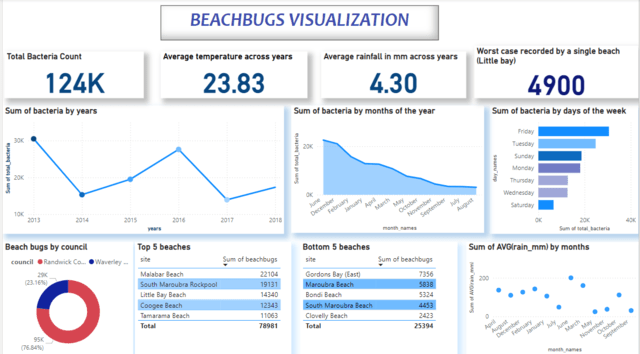

What the dashboard file says about the page in this screenshot:
{"tool":"powerbi","page":{"name":"Page 1","canvas":[1280,720],"ordinal":0},"visuals":[{"type":"textbox","box":[317.8,13,559.5,69.7],"z":0},{"type":"lineChart","title":"Sum of bacteria by years","fields":{"Category":["bacteria_by_day_month (2).years"],"Y":["Sum(bacteria_by_day_month (2).total_bacteria)"]},"box":[0,214.7,566.3,257.7],"z":1000},{"type":"card","title":"Total Bacteria Count","fields":{"Values":["Sum(bacteria_by_day_month (2).total_bacteria)"]},"box":[3.2,105.4,280.5,94.1],"z":2000},{"type":"card","title":"Average temperature across years","fields":{"Values":["Avg(bacteria_by_day_month (2).Avg_temp)"]},"box":[317.8,105.4,295.1,94.1],"z":3000},{"type":"card","title":"Average rainfall in mm across years","fields":{"Values":["Avg(bacteria_by_day_month (2).AVG(rain_mm))"]},"box":[640.5,105.4,291.9,94.1],"z":4000},{"type":"barChart","title":"Sum of bacteria by days of the week","fields":{"Category":["bacteria_by_day_month (2).day_names"],"Y":["Sum(bacteria_by_day_month (2).total_bacteria)"]},"box":[979.8,214.7,299,257.7],"z":5000},{"type":"areaChart","title":"Sum of bacteria by months of the year","fields":{"Category":["bacteria_by_day_month (2).month_names"],"Y":["Sum(bacteria_by_day_month (2).total_bacteria)"]},"box":[580.6,214.7,388.1,256.1],"z":6000},{"type":"scatterChart","title":"Sum of AVG(rain_mm) by months","fields":{"Y":["Sum(bacteria_by_day_month (2).AVG(rain_mm))"],"X":["bacteria_by_day_month (2).month_names"]},"box":[932.4,488.1,347,227],"z":7000},{"type":"card","title":"Worst case recorded by a single beach (Little bay)","fields":{"Values":["bugcount_beaches.Measure"]},"box":[948.7,94.1,330.8,105.4],"z":8000},{"type":"donutChart","title":"Beach bugs by council","fields":{"Y":["Sum(bugcount_council.total)"],"Category":["bugcount_council.council"]},"box":[0,488.1,262.7,231.9],"z":9000},{"type":"tableEx","title":"Top 5 beaches","fields":{"Values":["bugcount_beaches.site","Sum(bugcount_beaches.beachbugs)"]},"box":[265.9,488.1,314.6,227],"z":10000},{"type":"tableEx","title":"Bottom 5 beaches","fields":{"Values":["bugcount_beaches.site","Sum(bugcount_beaches.beachbugs)"]},"box":[598.1,488.3,316.5,227.5],"z":11000}]}

Visuals, with their boxes in screenshot pixels (x1, y1, x2, y2), scaled from the page's 1280x720 canvas onto the 640x354 screenshot:
textbox: <box>159,6,439,41</box>
"Sum of bacteria by years" lineChart: <box>0,106,283,232</box>
"Total Bacteria Count" card: <box>2,52,142,98</box>
"Average temperature across years" card: <box>159,52,306,98</box>
"Average rainfall in mm across years" card: <box>320,52,466,98</box>
"Sum of bacteria by days of the week" barChart: <box>490,106,639,232</box>
"Sum of bacteria by months of the year" areaChart: <box>290,106,484,231</box>
"Sum of AVG(rain_mm) by months" scatterChart: <box>466,240,639,352</box>
"Worst case recorded by a single beach (Little bay)" card: <box>474,46,639,98</box>
"Beach bugs by council" donutChart: <box>0,240,131,353</box>
"Top 5 beaches" tableEx: <box>133,240,290,352</box>
"Bottom 5 beaches" tableEx: <box>299,240,457,352</box>
